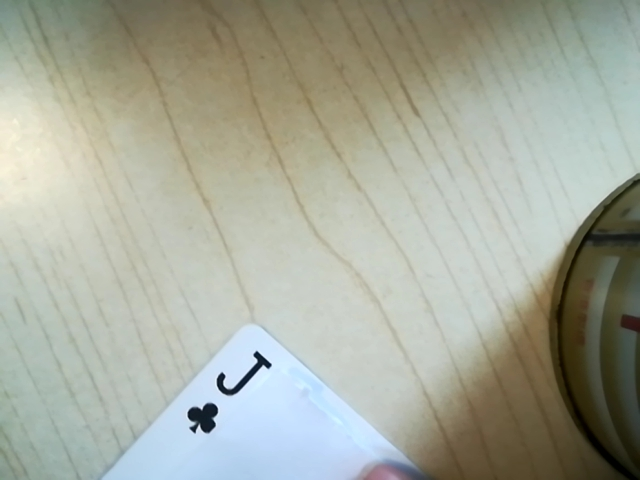mh j: (173, 347, 272, 442)
